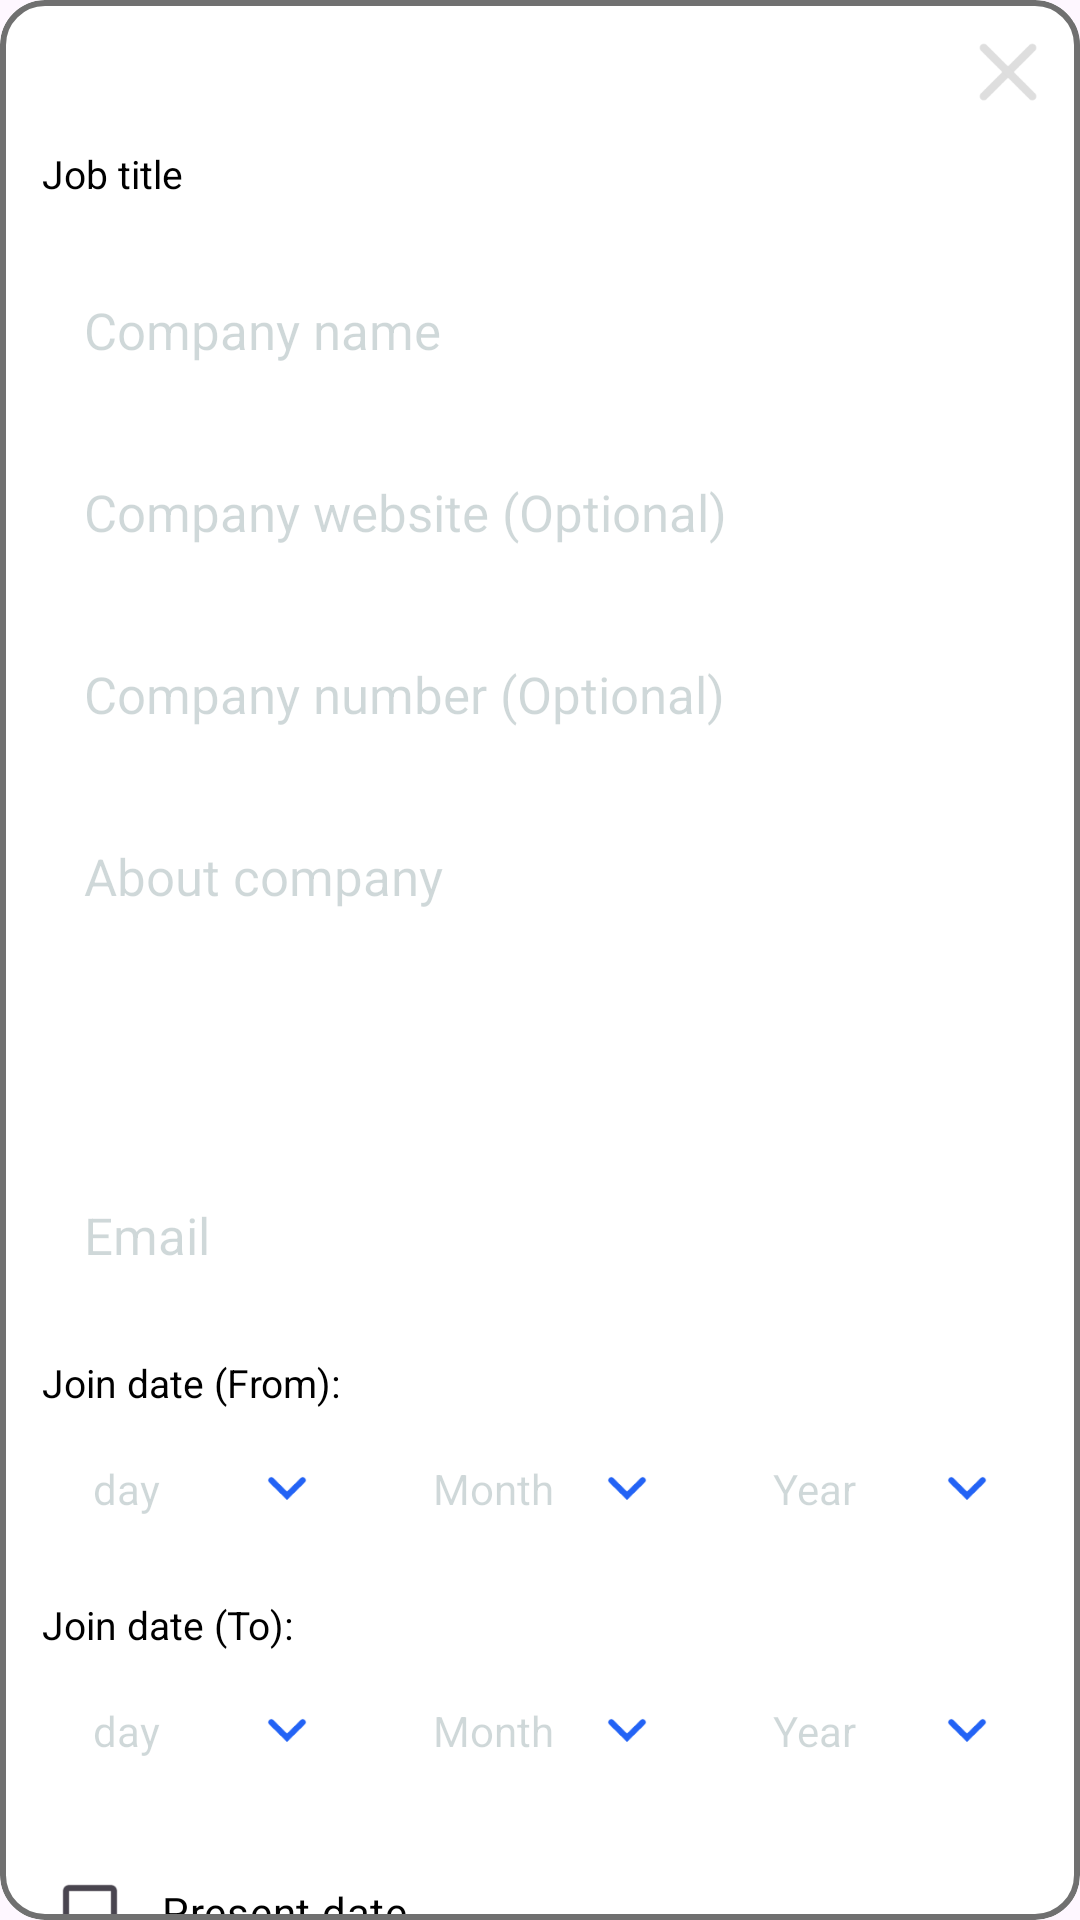

Icons on this 1080×1920 Android screen, each with its box as (x1, y1, x2, y2):
close: (980, 44, 1036, 100)
